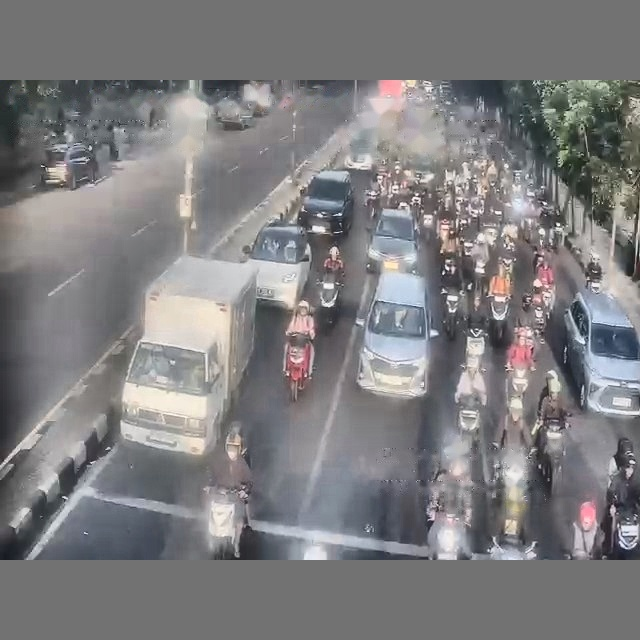Mobil: (356, 272, 438, 397), (562, 289, 639, 415), (243, 220, 311, 309), (298, 170, 353, 236), (366, 209, 419, 273), (40, 143, 98, 189), (345, 130, 376, 171), (216, 98, 253, 129), (405, 154, 435, 185)
Motor: (205, 487, 246, 558), (537, 420, 567, 495), (285, 333, 310, 401), (316, 271, 342, 328), (433, 515, 466, 559), (612, 509, 639, 558), (458, 397, 480, 446), (488, 538, 536, 559), (442, 288, 460, 340), (490, 295, 508, 343), (506, 367, 528, 398), (465, 328, 485, 360), (533, 304, 546, 342), (365, 190, 380, 221)
Truk: (120, 256, 256, 455)
